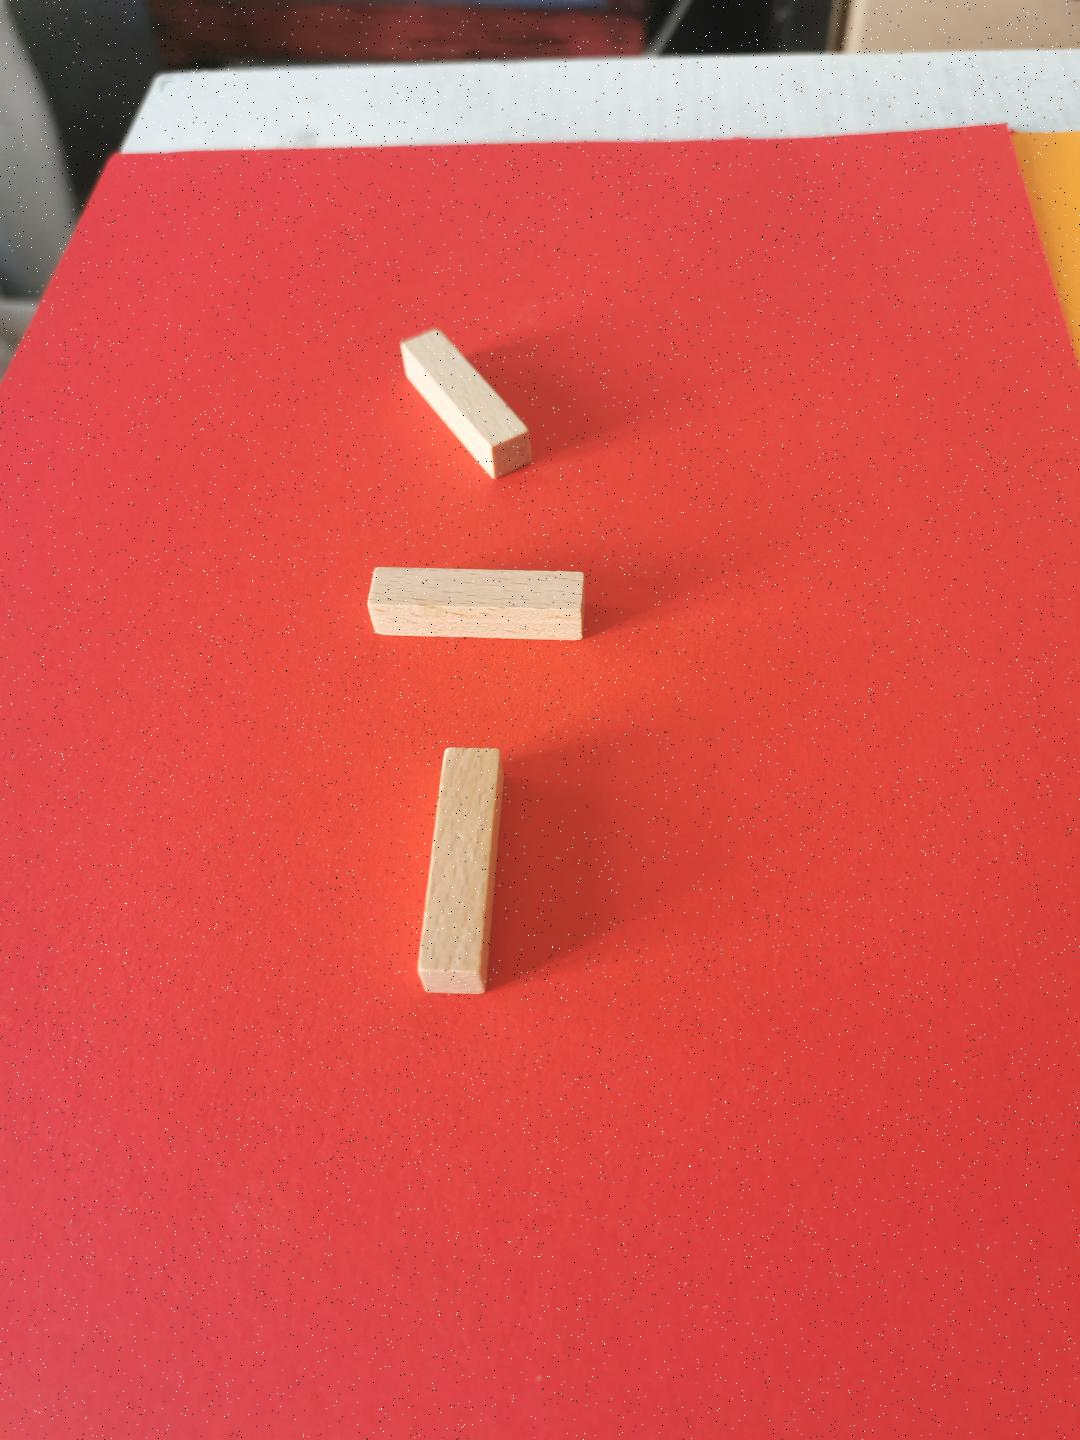jenga: (419, 748, 504, 993), (399, 329, 532, 478), (369, 566, 585, 642)
